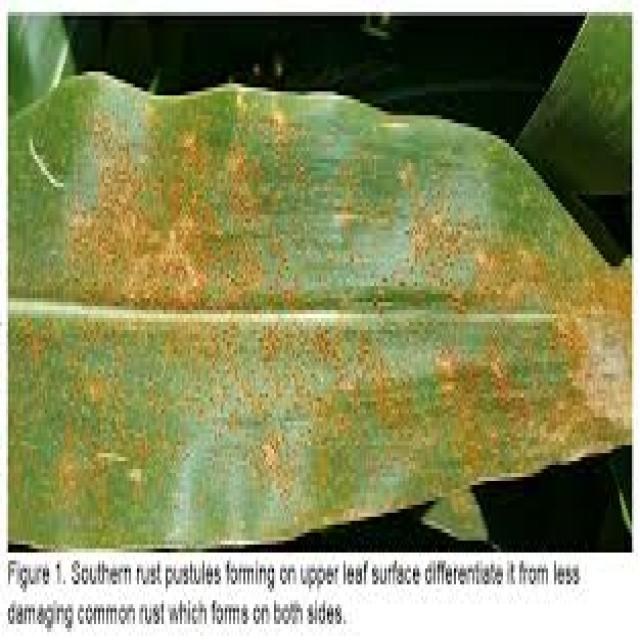Corn_Rust: (35, 64, 609, 532)
